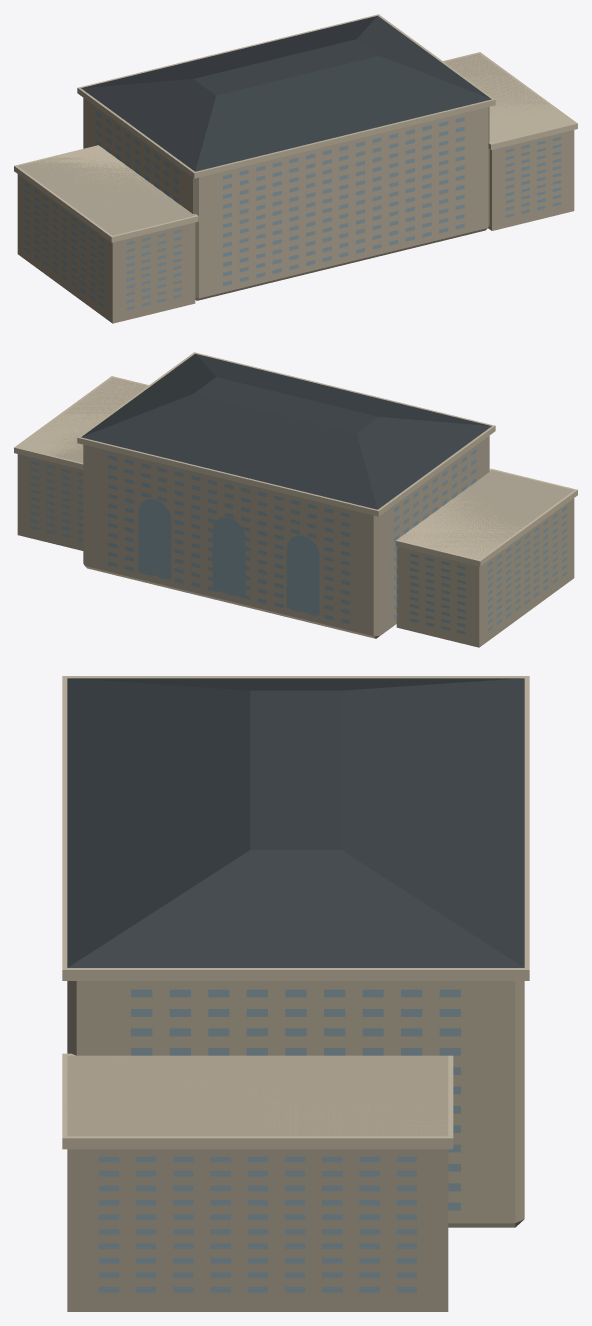
3 renders of one model, top to bottom at view 1: azimuth 30°, elevation 25°; view 2: azimuth 150°, elevation 25°; view 3: azimuth 270°, elevation 25°, orthographic. The views are drawn at different scales.
Parts seen in each view (by area): view 1: midtown-terminal-lod0; view 2: midtown-terminal-lod0; view 3: midtown-terminal-lod0.
Boxes of the visible parts, x1=… form: midtown-terminal-lod0: x1=14, y1=14, x2=577, y2=323; midtown-terminal-lod0: x1=14, y1=352, x2=577, y2=647; midtown-terminal-lod0: x1=62, y1=676, x2=529, y2=1311.
Bounding box in the file's own units: 155 × 50.4 × 67.48.
